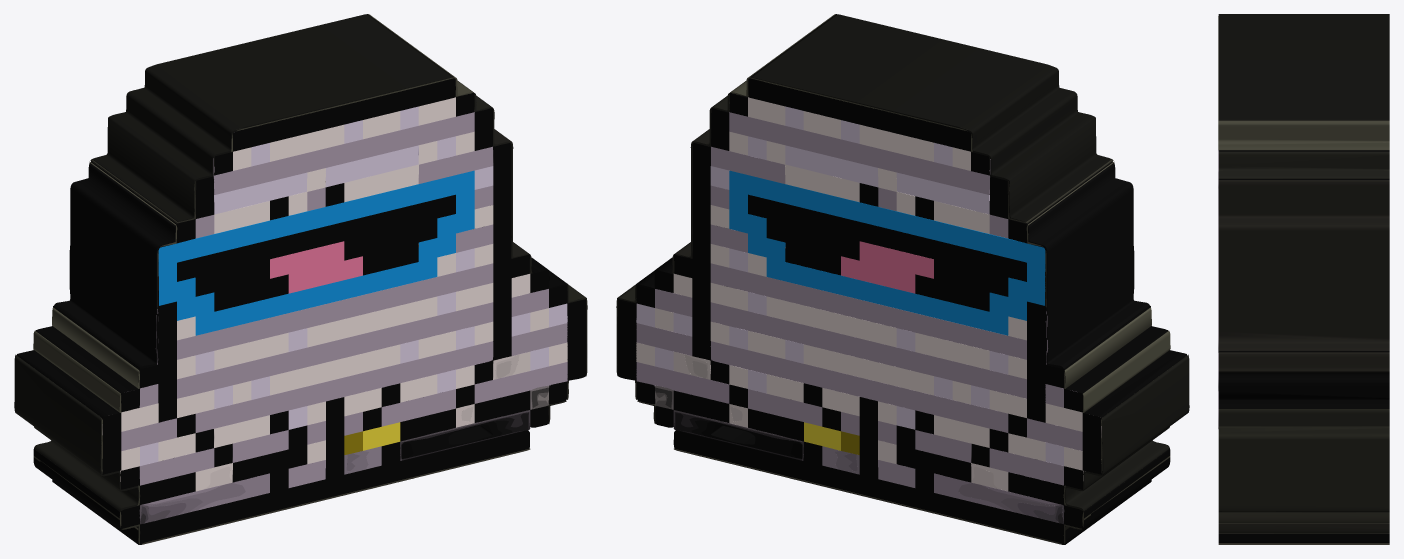
The model's file is Toadz_4001.glb.
The picture shows the model from 3 angles, left to right: view 1: azimuth 30°, elevation 25°; view 2: azimuth 150°, elevation 25°; view 3: azimuth 270°, elevation 25°; orthographic projection.
Visible parts, largest first — view 1: Curve; view 2: Curve; view 3: Curve.
Boxes of the visible parts, <box> form: Curve: <box>14,14,587,544</box>; Curve: <box>616,14,1189,544</box>; Curve: <box>1218,14,1389,544</box>.
Size of the model in its own units: 3.26 by 2.51 by 1.
